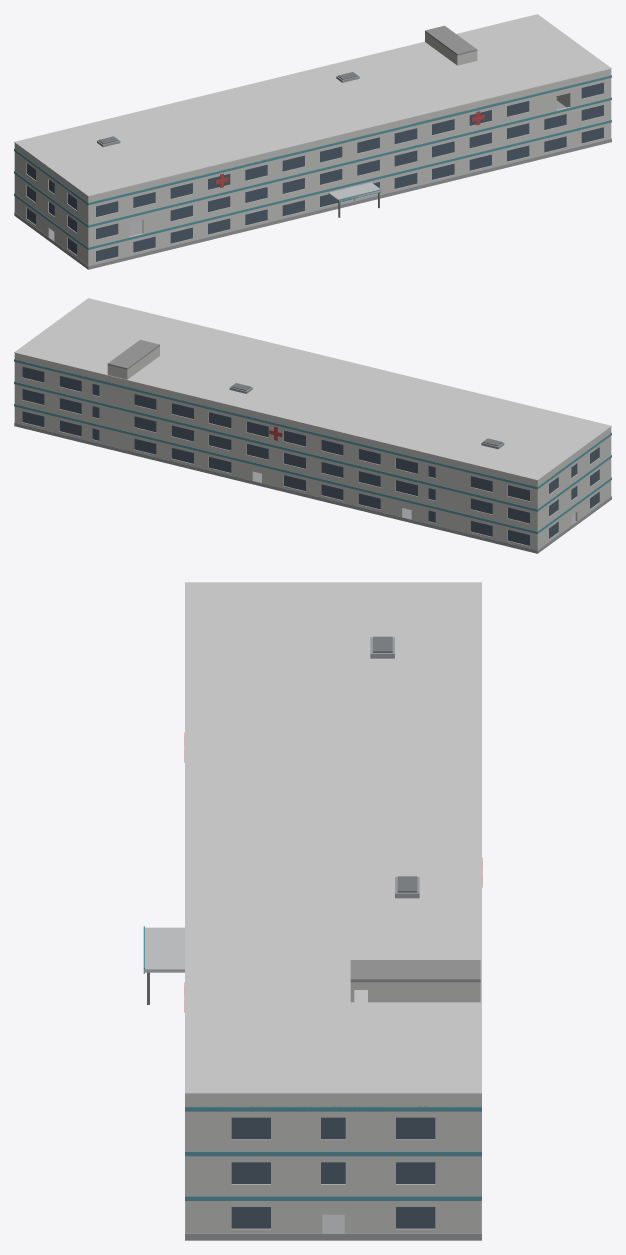
File: hosp-main.mega-v1.lod1.glb
The picture shows the model from 3 angles, top to bottom: view 1: azimuth 30°, elevation 25°; view 2: azimuth 150°, elevation 25°; view 3: azimuth 270°, elevation 25°; orthographic projection. The views are drawn at different scales.
Parts seen in each view (by area): view 1: hosp-main; view 2: hosp-main; view 3: hosp-main.
Part boxes in pixels (box(x1,y1,x2,y2)): hosp-main: box(14, 14, 611, 269); hosp-main: box(14, 298, 611, 553); hosp-main: box(143, 582, 482, 1240).
Size of the model in its own units: 98.12 by 15.25 by 27.48.
